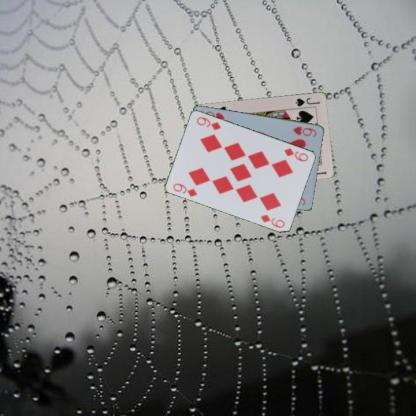6h: (290, 124, 318, 138)
9d: (170, 180, 199, 198), (281, 145, 310, 162)
Js: (293, 95, 321, 107)
